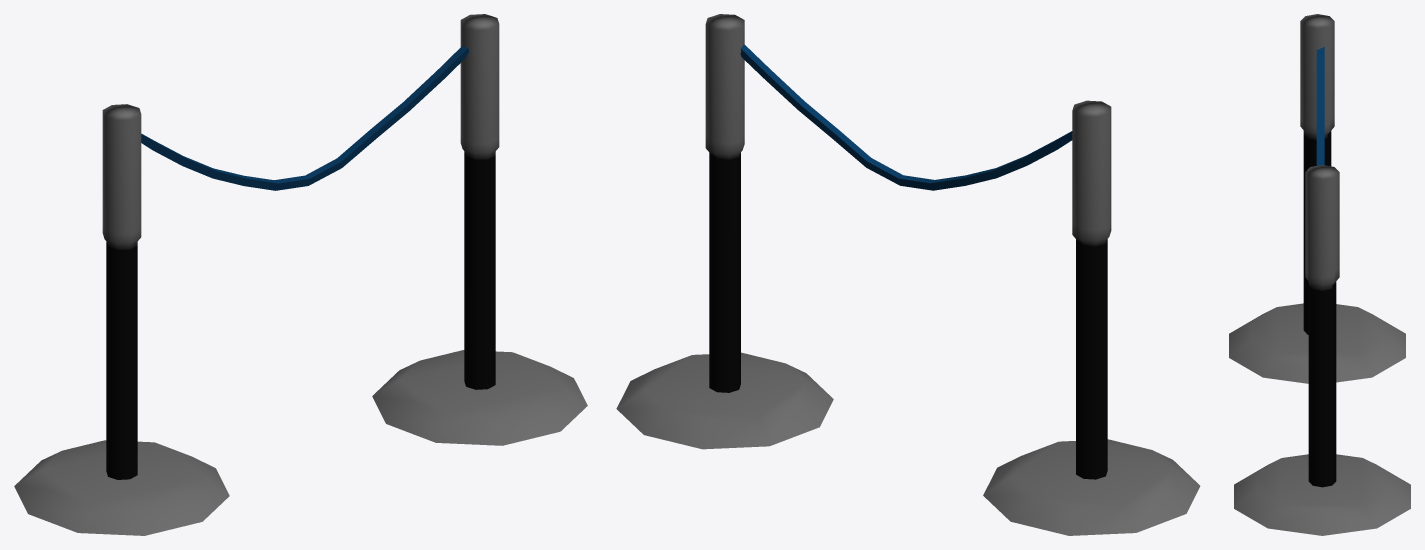
The model's file is SM_Hub_Crowdcontroller_01.fbx.
The picture shows the model from 3 angles, left to right: view 1: azimuth 30°, elevation 25°; view 2: azimuth 150°, elevation 25°; view 3: azimuth 270°, elevation 25°; orthographic projection. The views are drawn at different scales.
Visible parts, largest first — view 1: SM_Hub_Crowdcontroller_01; view 2: SM_Hub_Crowdcontroller_01; view 3: SM_Hub_Crowdcontroller_01.
Boxes of the visible parts, left/top/right/bottom form: SM_Hub_Crowdcontroller_01: left=14, top=14, right=587, bottom=535; SM_Hub_Crowdcontroller_01: left=616, top=14, right=1200, bottom=535; SM_Hub_Crowdcontroller_01: left=1229, top=14, right=1410, bottom=535.
Bounding box in the file's own units: 7.6 × 5.01 × 2.54.
